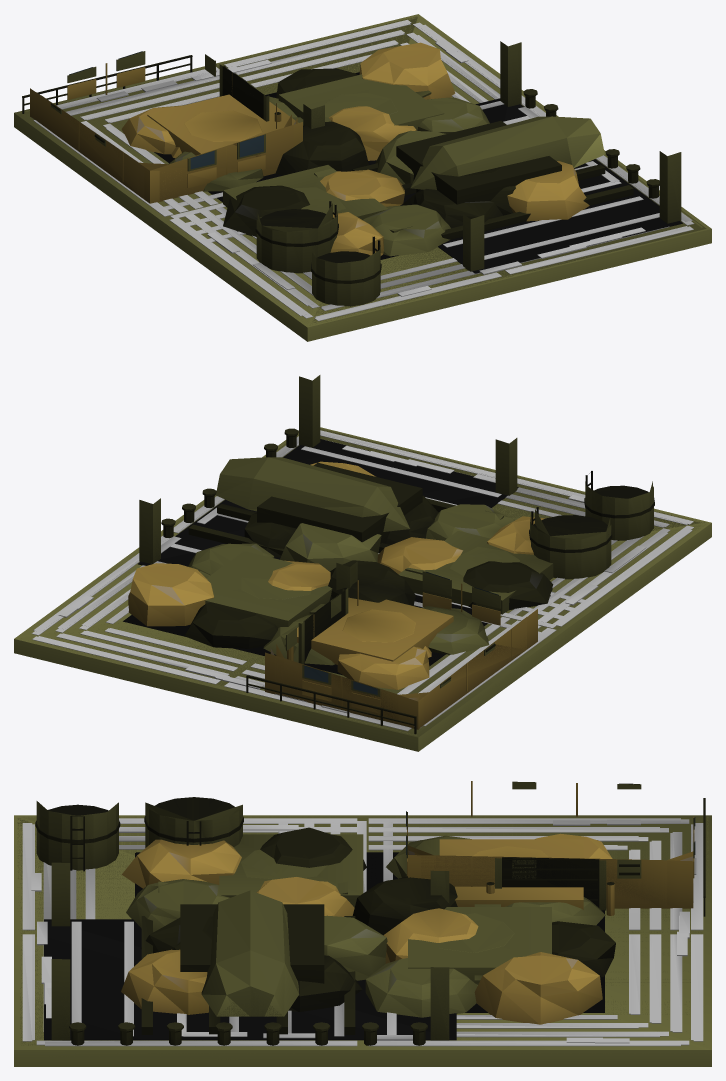
The model's file is meridian_shipyard_heavily_damaged.glb.
3 renders of one model, top to bottom at view 1: azimuth 30°, elevation 25°; view 2: azimuth 150°, elevation 25°; view 3: azimuth 270°, elevation 25°, orthographic. The views are drawn at different scales.
Visible parts, largest first — view 1: body (×3); view 2: body (×3); view 3: body (×3).
Boxes of the visible parts, x1,y1,x2,y2 form: body (×3): (14, 14, 711, 341); body (×3): (14, 375, 711, 751); body (×3): (14, 781, 711, 1066).
Size of the model in its own units: 14.8 by 2.92 by 18.6.
